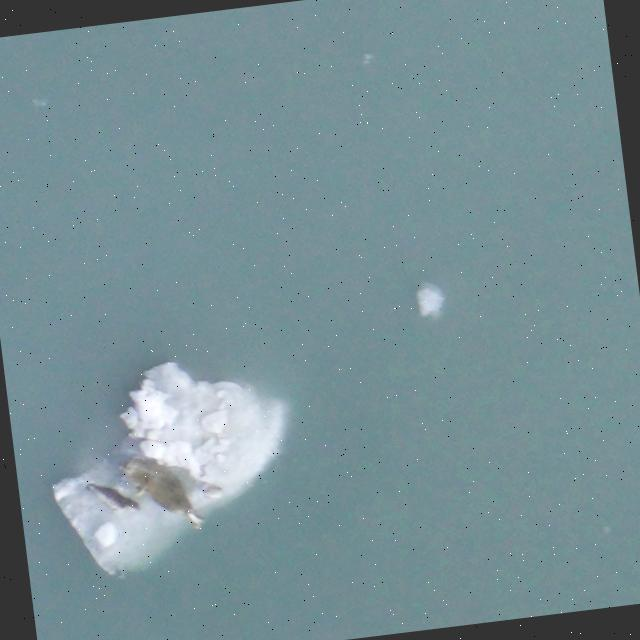seal: (108, 445, 207, 542), (81, 474, 145, 521)
